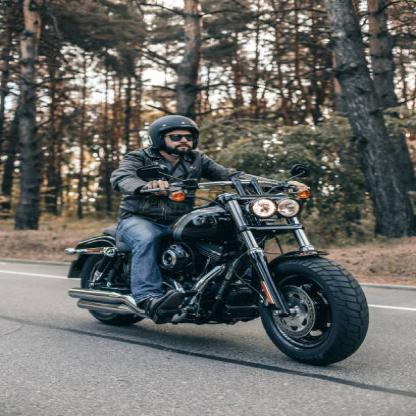Motorcycle: (63, 179, 368, 370)
